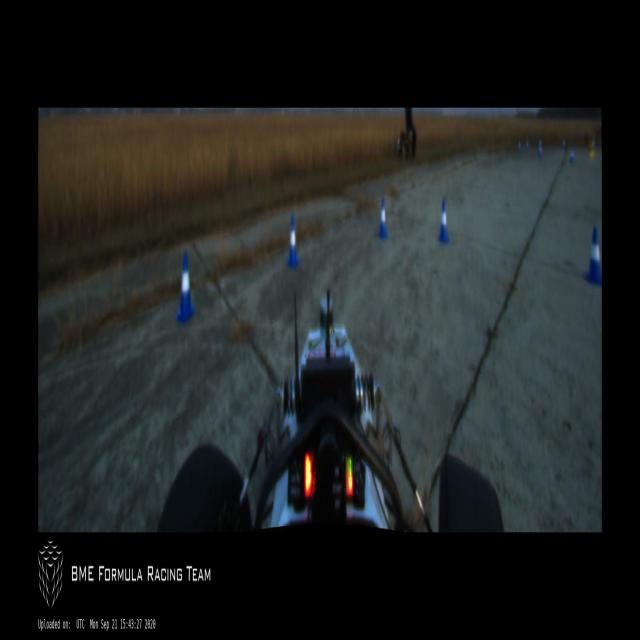blue_cone: (174, 251, 196, 324), (585, 226, 602, 286), (287, 216, 298, 269), (438, 200, 449, 243), (378, 198, 388, 239)
